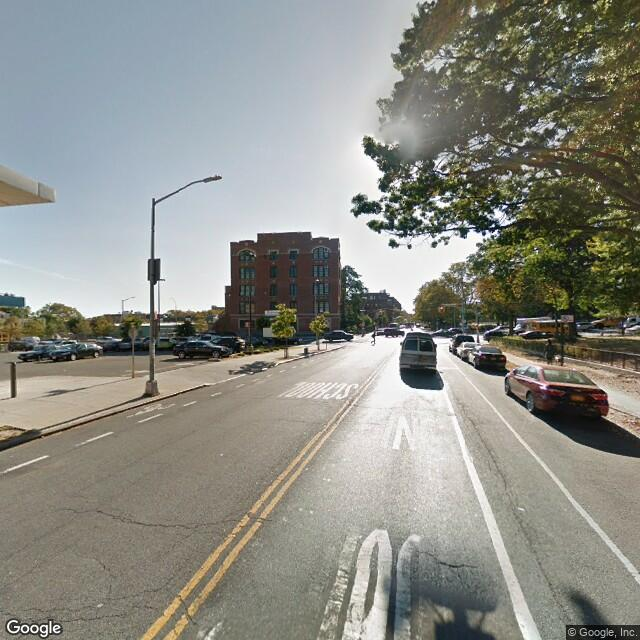litter: (515, 503, 525, 515), (219, 452, 223, 458)
